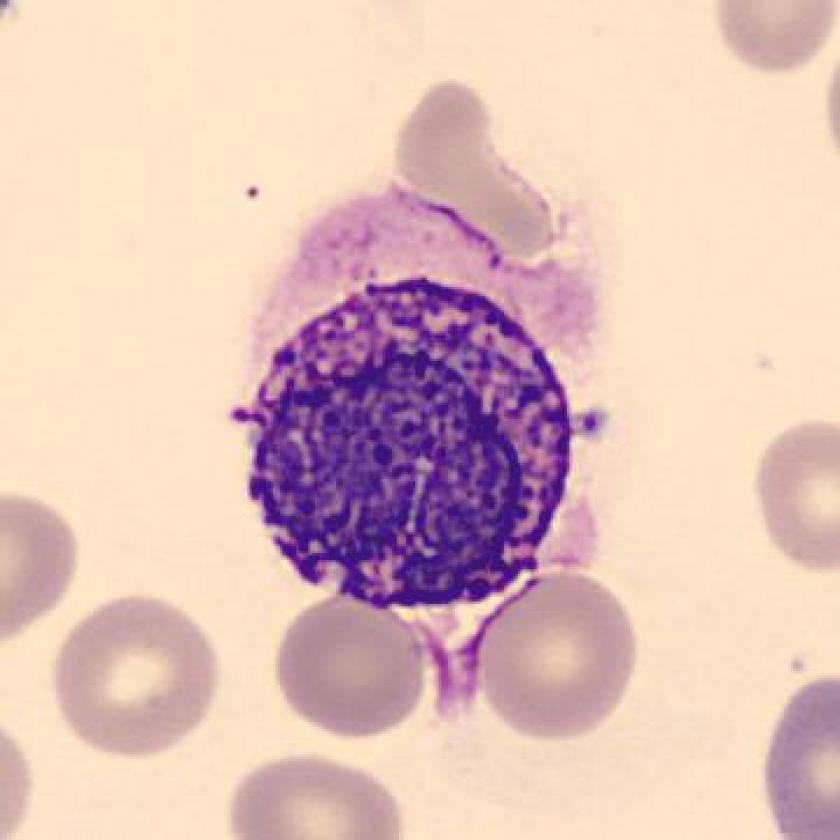basophil: (234, 269, 589, 612)
